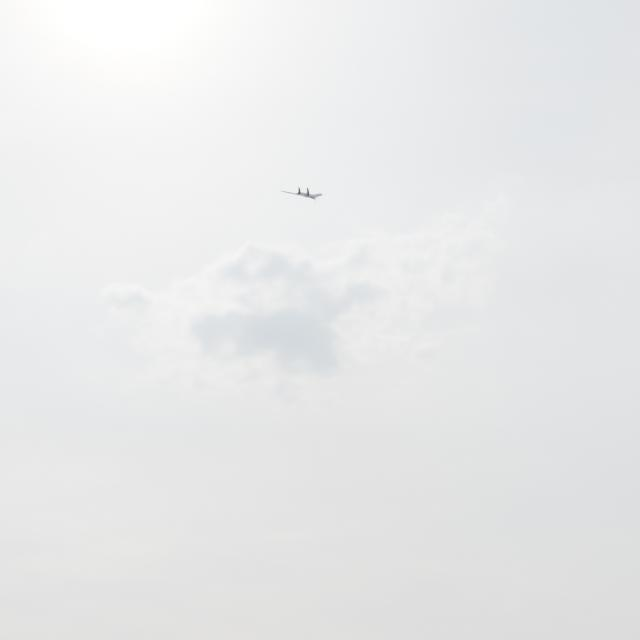Airaplan: (279, 186, 323, 204)
